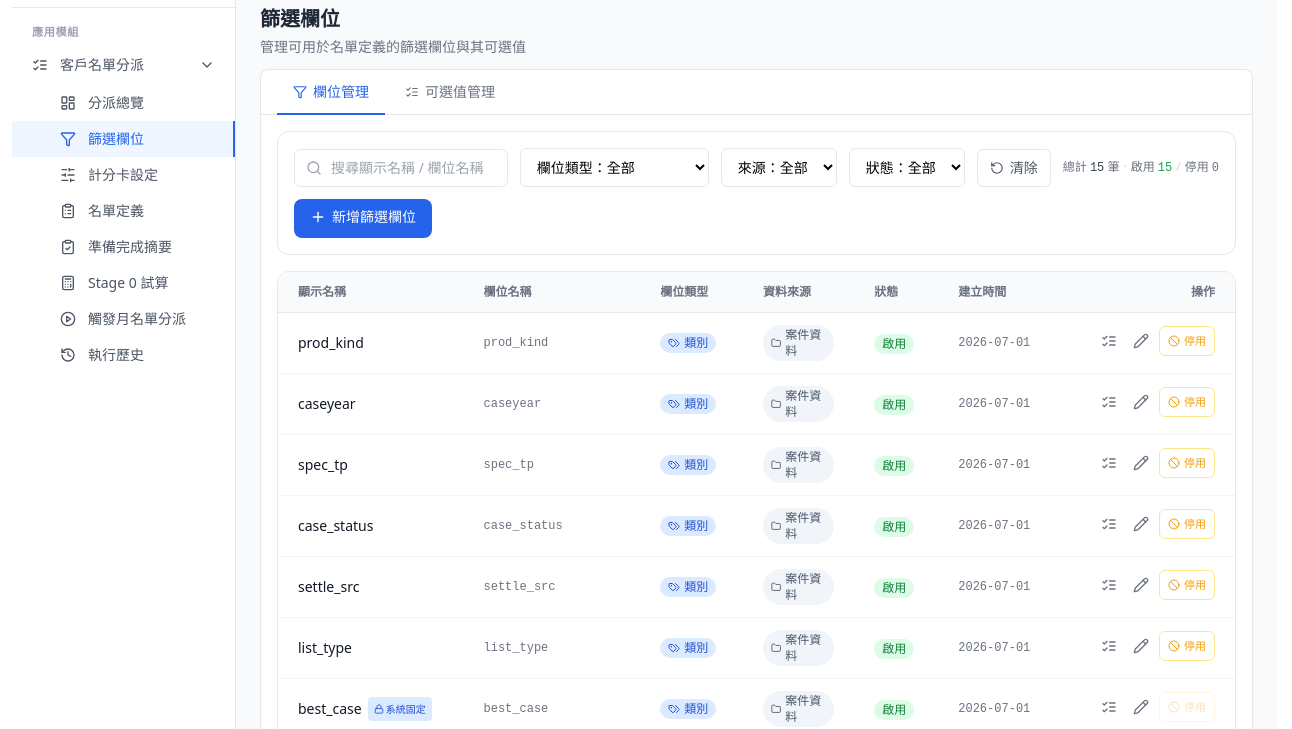
F109 FieldsTab — 資料來源欄 + 篩選 › TS-F109-FE-002：來源篩選 dropdown 選「客戶資料」→ 只顯示 8 筆 customer_core（ob_pool_data 隱藏）
Select "客戶資料" in the dropdown with test id "filter-data-source": point(779, 168) [721, 148, 837, 187]
(page scrolled)
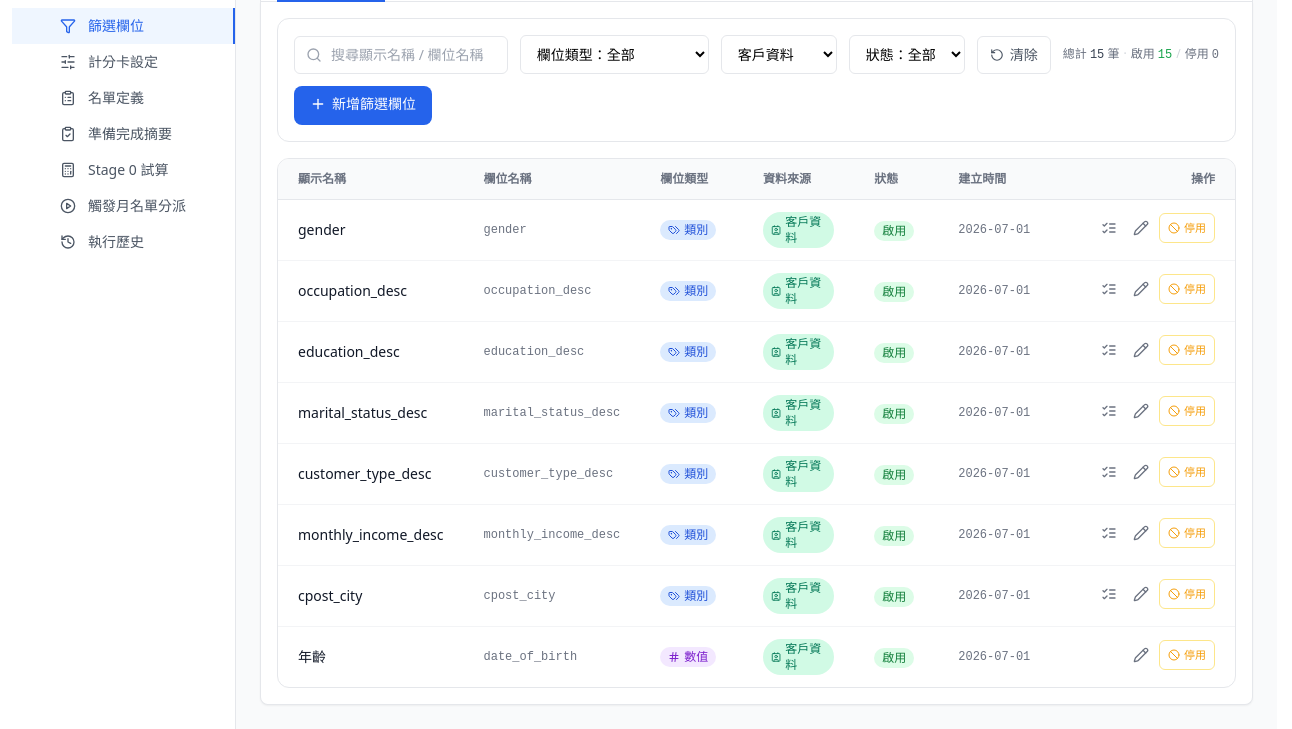
Expected: the row with test id "field-row-gender" is shown, [278, 200, 1235, 260]
Expected: the row with test id "field-row-prod_kind" is gone
